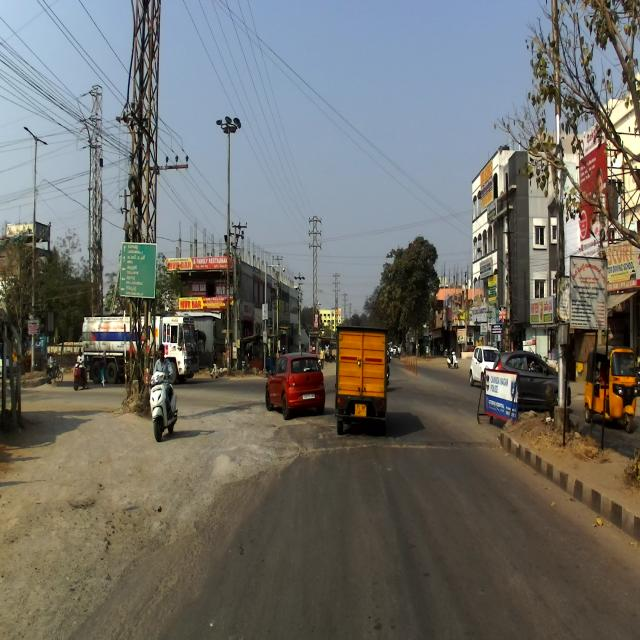barrier ahead at: (474, 366, 521, 426)
car ahead at: (268, 346, 326, 421)
electric pole ahead at: (119, 0, 155, 399)
motorcycle ahead at: (147, 364, 182, 442)
truck ahead at: (335, 324, 390, 442)
